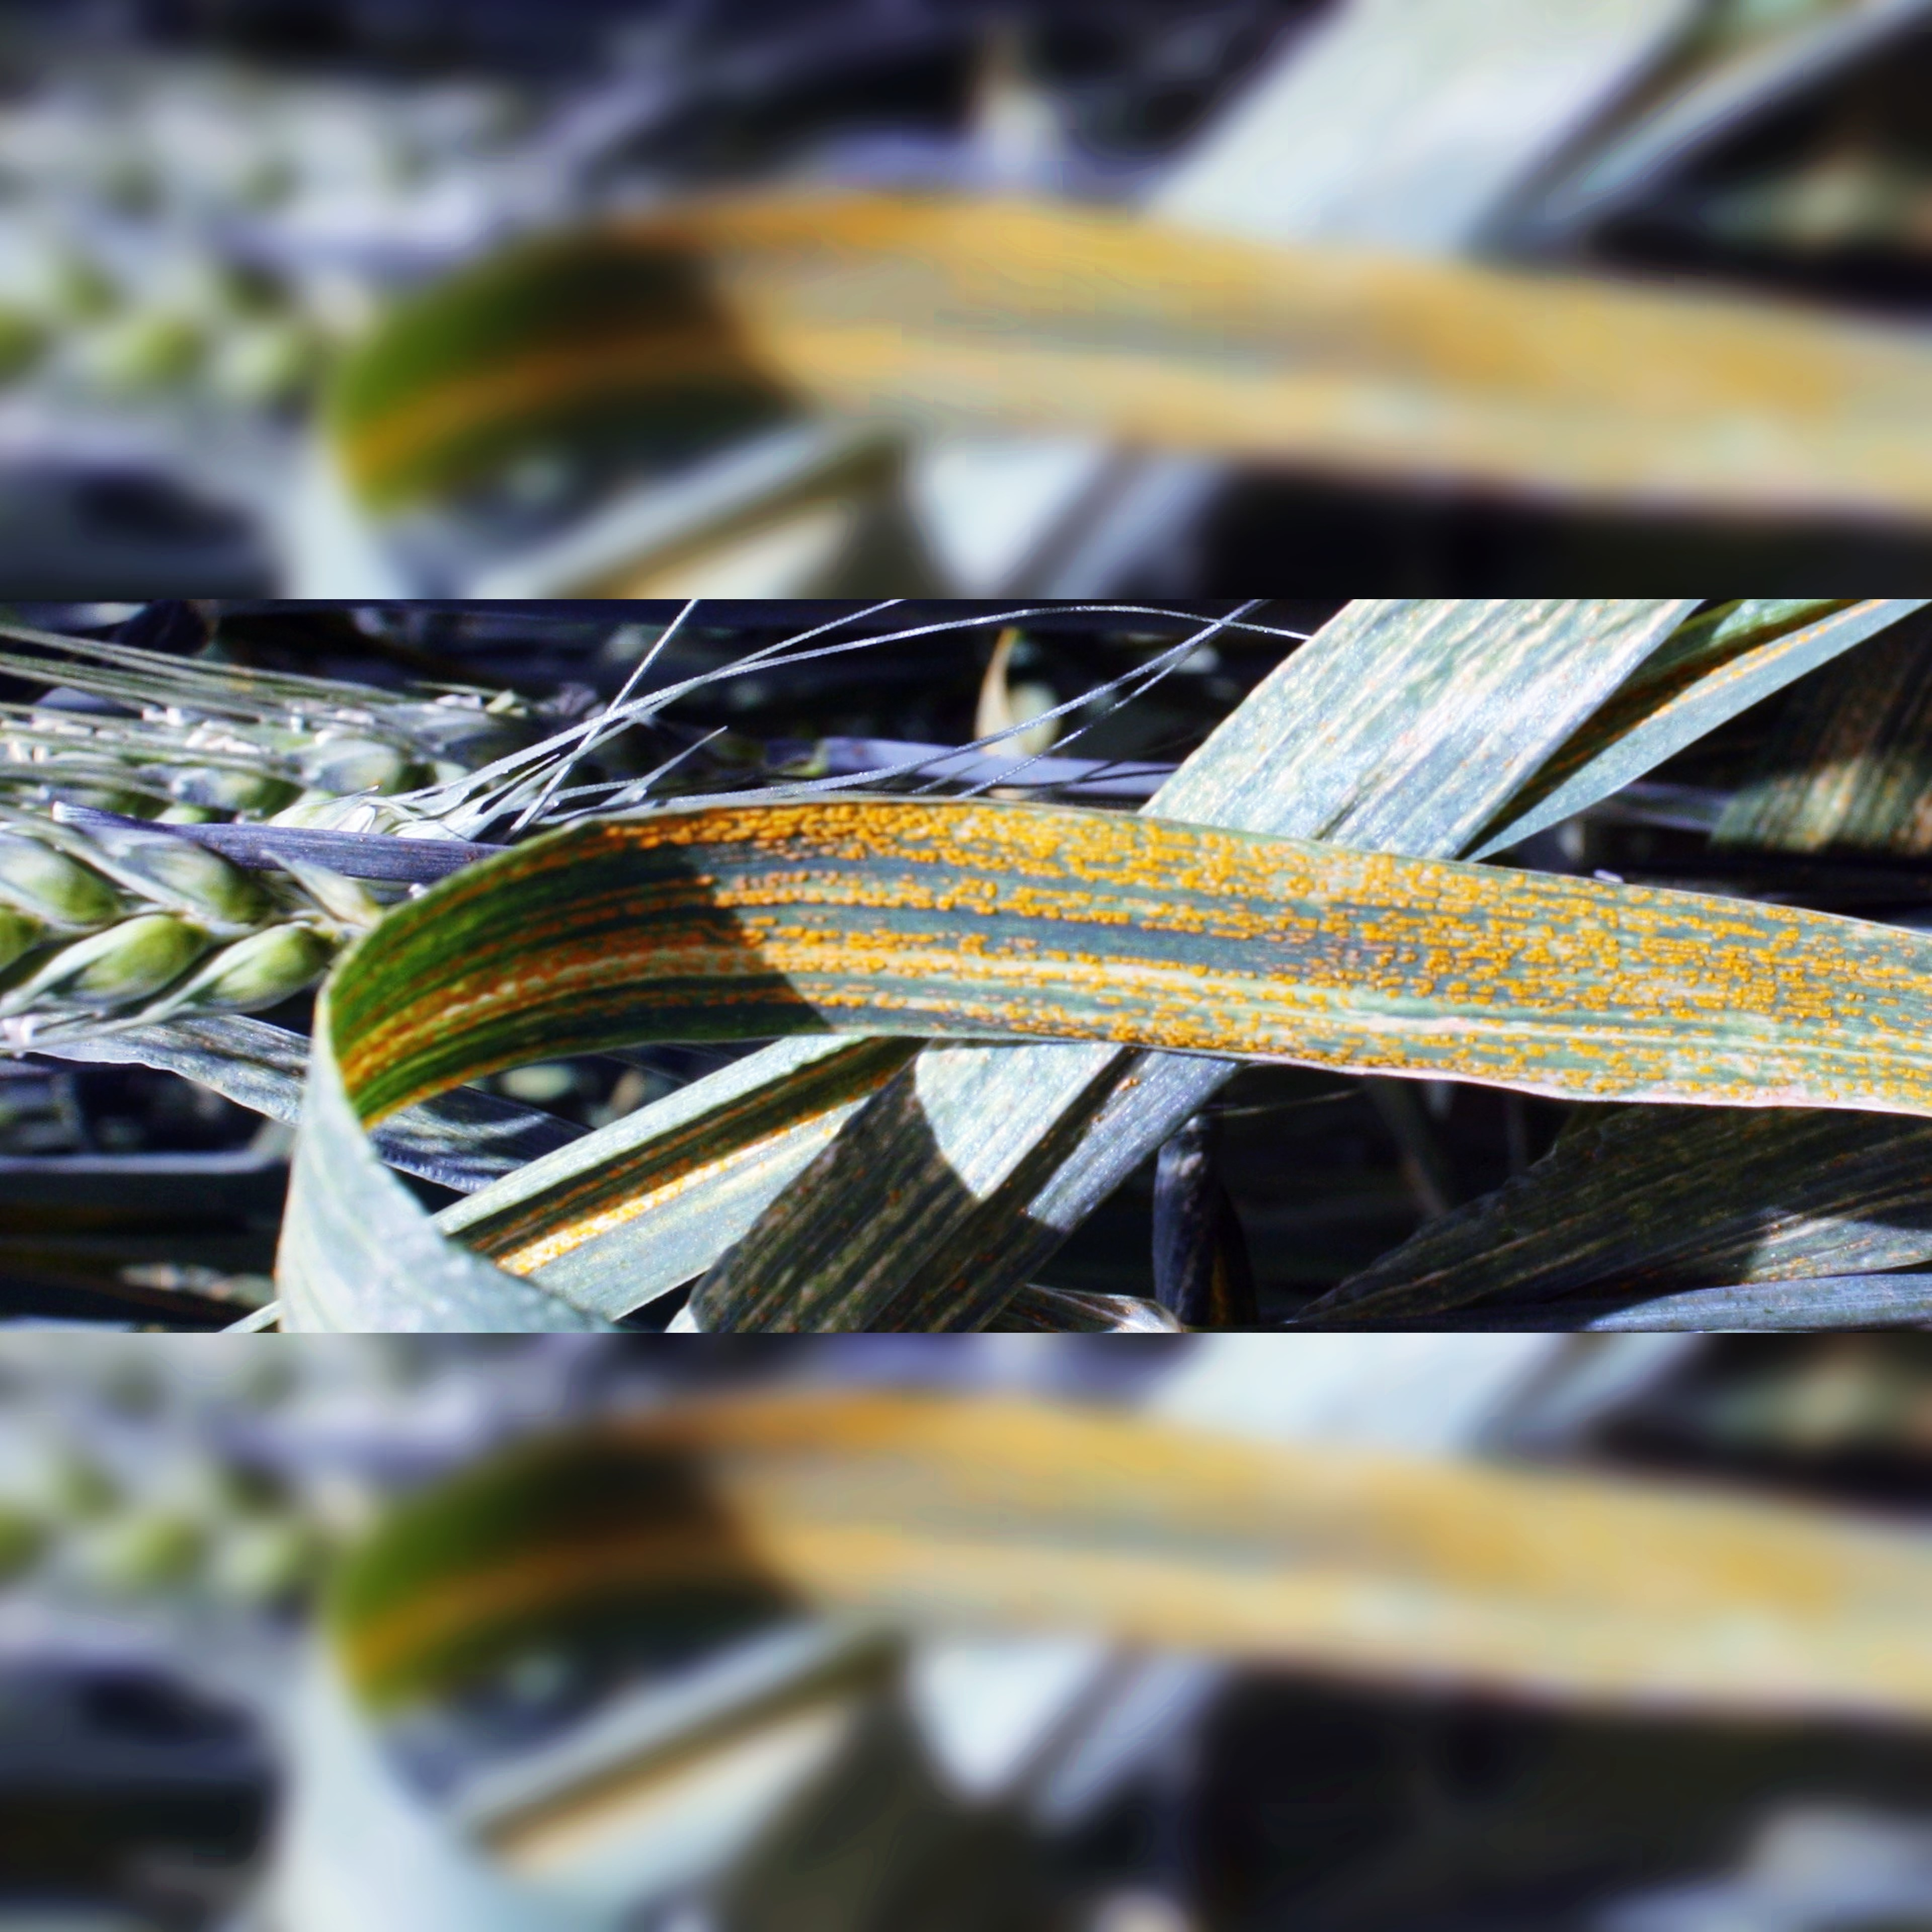Leaf Rust: (644, 778, 1932, 1148)
